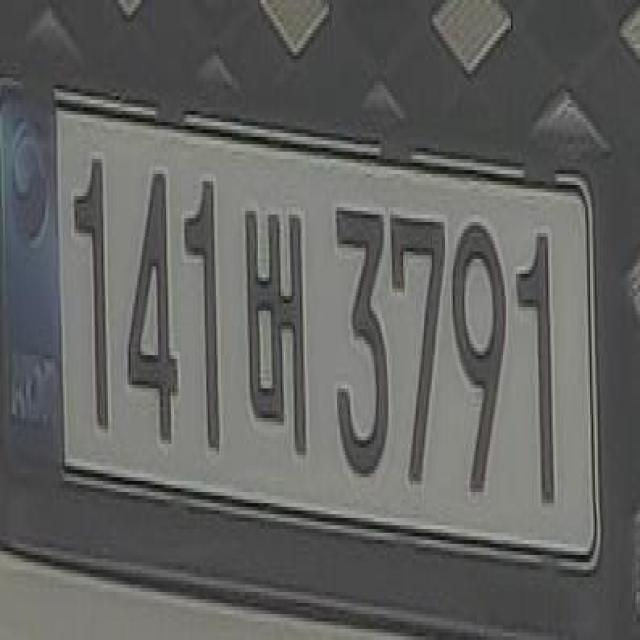illegal_plate: (14, 108, 612, 578)
